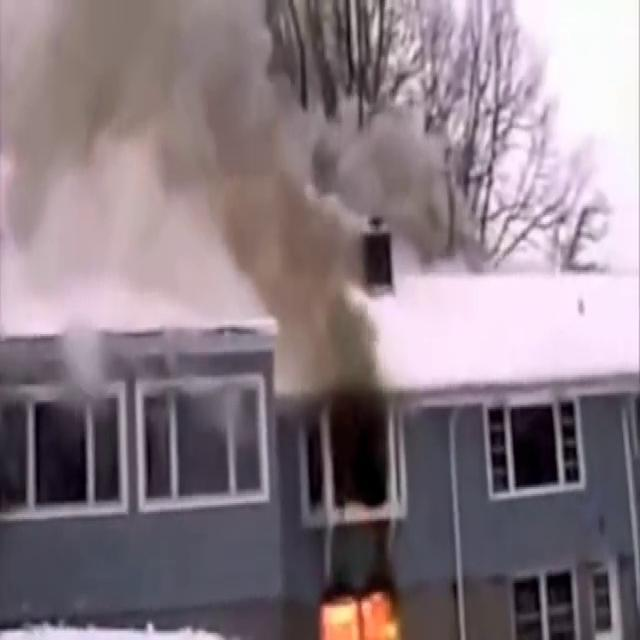Fire: (315, 578, 412, 640)
Smoke: (0, 0, 441, 336)
